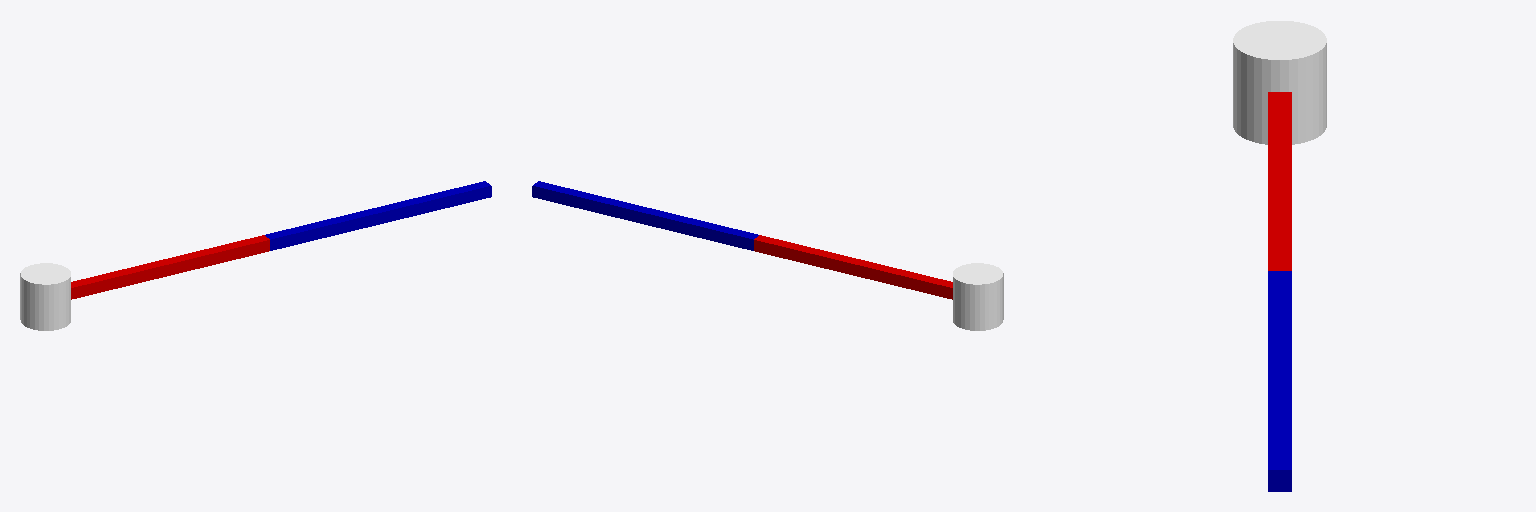
The robot description file, URDF, robot "2dof":
<?xml version="1.0" ?>

<robot name="2dof" xmlns:xacro="http://ros.org/wiki/xacro">
  <gazebo>
    <plugin filename="libgazebo_ros_control.so" name="ros_control">
    </plugin>
    
  </gazebo>

  <link name="base_link">
    <visual>
      <origin xyz="0 0 0" rpy="0 0 0"/>
      <geometry>
        <cylinder length="0.2" radius="0.1"/>
      </geometry>
      <material name="White">
       <color rgba="1.0 1.0 1.0 1.0"/>
      </material>
    </visual>
  </link>

  <link name="link1">
    <visual>
      <origin xyz="0.5 0 0"/>
      <geometry>
        <box size="1 0.05 0.05"/>
      </geometry>
      <material name="Red">
       <color rgba="0.9 0.0 0.0 1.0"/>
      </material>
    </visual>
  </link>

  <link name="link2">
    <visual>
      <origin xyz="0.5 0 0"/>
      <geometry>
        <box size="1 0.05 0.05"/>
      </geometry>
      <material name="Blue">
       <color rgba="0.0 0.0 0.8 1.0"/>
      </material>
    </visual>
  </link>
  <link name="tool"></link>


<!-- Joints -->

  <joint name="joint1" type="revolute">
    <limit effort="30" velocity="1.0" lower="-3.14159" upper="3.14159" />
    <parent link="base_link"/>
    <child link="link1"/>
    <origin xyz="0 0 0" rpy="0 0 0" />
    <axis xyz="0 0 1" />
  </joint>

  <joint name="joint2" type="revolute">
    <limit effort="30" velocity="1.0" lower="-3.14159" upper="3.14159" />
    <parent link="link1"/>
    <child link="link2"/>
    <origin xyz="1 0 0" rpy="0 0 0" />
    <axis xyz="0 0 1" />
  </joint>

  <joint name="ee" type="fixed">
    <parent link="link2" />
    <child link="tool" />
    <limit effort="30" velocity="1.0" lower="-6.28318" upper="6.28318" />
    <origin xyz="1 0 0" rpy="0 0 0" />
    <axis xyz="0 0 1" />
  </joint>
</robot>

--- Render facts (derived) ---
Views: 3 orthographic renders of the robot side by side, from view 1: azimuth 30°, elevation 25°; view 2: azimuth 150°, elevation 25°; view 3: azimuth 270°, elevation 25°.
Model 2dof with 4 links and 3 joints (2 revolute, 1 fixed), rooted at base_link, posed all joints at 0.
Links seen in each view (by area): view 1: link2, link1, base_link; view 2: link2, link1, base_link; view 3: base_link, link2, link1.
Link boxes in pixels (box(x1,y1,x2,y2)): link2: box(265, 181, 491, 250); link1: box(71, 235, 269, 299); base_link: box(20, 263, 70, 330); link2: box(532, 181, 758, 250); link1: box(754, 235, 952, 299); base_link: box(953, 263, 1003, 330); base_link: box(1233, 21, 1326, 144); link2: box(1268, 271, 1291, 491); link1: box(1268, 92, 1291, 270).
Bounding box of the posed robot: 2.1 × 0.2 × 0.2 m (x, y, z).
Geometry: primitives only (box / cylinder / sphere), no mesh files.